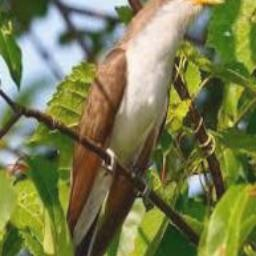Cuckoo: (56, 0, 223, 256)
